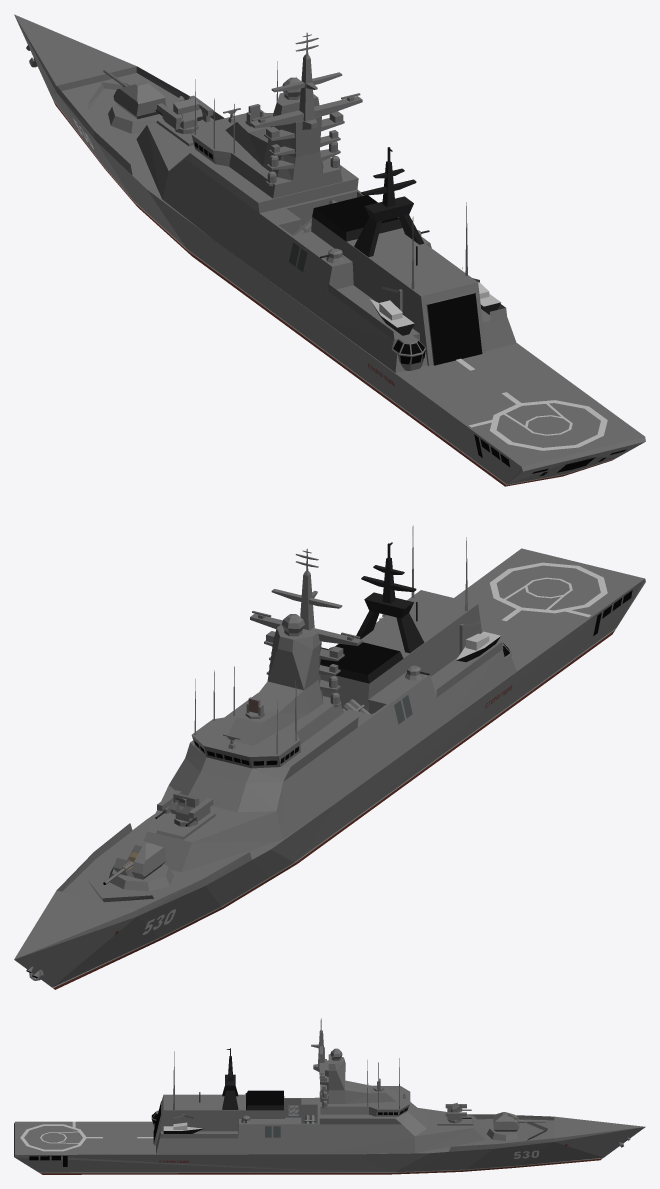
The picture shows the model from 3 angles, top to bottom: view 1: azimuth 30°, elevation 25°; view 2: azimuth 150°, elevation 25°; view 3: azimuth 270°, elevation 25°; orthographic projection. The views are drawn at different scales.
Visible parts, largest first — view 1: ShapeIndexedFaceSet.016_ShapeIndexedFaceSet.017, ShapeIndexedFaceSet_ShapeIndexedFaceSet.001, ShapeIndexedFaceSet.018_ShapeIndexedFaceSet.019, ShapeIndexedFaceSet.049_ShapeIndexedFaceSet, ShapeIndexedFaceSet.027_ShapeIndexedFaceSet.028, ShapeIndexedFaceSet.026_ShapeIndexedFaceSet.027, ShapeIndexedFaceSet.001_ShapeIndexedFaceSet.002, ShapeIndexedFaceSet.019_ShapeIndexedFaceSet.020, ShapeIndexedFaceSet.032_ShapeIndexedFaceSet.033, ShapeIndexedFaceSet.003_ShapeIndexedFaceSet.004, ShapeIndexedFaceSet.029_ShapeIndexedFaceSet.030, ShapeIndexedFaceSet.002_ShapeIndexedFaceSet.003 (+1 smaller); view 2: ShapeIndexedFaceSet.016_ShapeIndexedFaceSet.017, ShapeIndexedFaceSet_ShapeIndexedFaceSet.001, ShapeIndexedFaceSet.018_ShapeIndexedFaceSet.019, ShapeIndexedFaceSet.027_ShapeIndexedFaceSet.028, ShapeIndexedFaceSet.001_ShapeIndexedFaceSet.002, ShapeIndexedFaceSet.026_ShapeIndexedFaceSet.027, ShapeIndexedFaceSet.019_ShapeIndexedFaceSet.020, ShapeIndexedFaceSet.032_ShapeIndexedFaceSet.033, ShapeIndexedFaceSet.003_ShapeIndexedFaceSet.004, ShapeIndexedFaceSet.002_ShapeIndexedFaceSet.003; view 3: ShapeIndexedFaceSet_ShapeIndexedFaceSet.001, ShapeIndexedFaceSet.016_ShapeIndexedFaceSet.017, ShapeIndexedFaceSet.001_ShapeIndexedFaceSet.002, ShapeIndexedFaceSet.018_ShapeIndexedFaceSet.019, ShapeIndexedFaceSet.002_ShapeIndexedFaceSet.003, ShapeIndexedFaceSet.027_ShapeIndexedFaceSet.028, ShapeIndexedFaceSet.026_ShapeIndexedFaceSet.027, ShapeIndexedFaceSet.019_ShapeIndexedFaceSet.020, ShapeIndexedFaceSet.032_ShapeIndexedFaceSet.033, ShapeIndexedFaceSet.003_ShapeIndexedFaceSet.004, ShapeIndexedFaceSet.023_ShapeIndexedFaceSet.024, ShapeIndexedFaceSet.029_ShapeIndexedFaceSet.030.
Boxes of the visible parts, x1,y1,x2,y2 form: ShapeIndexedFaceSet.016_ShapeIndexedFaceSet.017: (87,32,516,372); ShapeIndexedFaceSet_ShapeIndexedFaceSet.001: (14,14,645,484); ShapeIndexedFaceSet.018_ShapeIndexedFaceSet.019: (312,147,500,335); ShapeIndexedFaceSet.049_ShapeIndexedFaceSet: (427,293,482,365); ShapeIndexedFaceSet.027_ShapeIndexedFaceSet.028: (73,118,607,450); ShapeIndexedFaceSet.026_ShapeIndexedFaceSet.027: (26,45,467,289); ShapeIndexedFaceSet.001_ShapeIndexedFaceSet.002: (53,101,614,486); ShapeIndexedFaceSet.019_ShapeIndexedFaceSet.020: (314,195,399,231); ShapeIndexedFaceSet.032_ShapeIndexedFaceSet.033: (113,81,165,119); ShapeIndexedFaceSet.003_ShapeIndexedFaceSet.004: (190,149,358,202); ShapeIndexedFaceSet.029_ShapeIndexedFaceSet.030: (393,340,626,476); ShapeIndexedFaceSet.002_ShapeIndexedFaceSet.003: (52,98,615,485); ShapeIndexedFaceSet.016_ShapeIndexedFaceSet.017: (88,548,516,901); ShapeIndexedFaceSet_ShapeIndexedFaceSet.001: (14,548,645,987); ShapeIndexedFaceSet.018_ShapeIndexedFaceSet.019: (320,542,424,683); ShapeIndexedFaceSet.027_ShapeIndexedFaceSet.028: (142,562,607,934); ShapeIndexedFaceSet.001_ShapeIndexedFaceSet.002: (53,630,614,989); ShapeIndexedFaceSet.026_ShapeIndexedFaceSet.027: (26,525,467,980); ShapeIndexedFaceSet.019_ShapeIndexedFaceSet.020: (320,642,399,674); ShapeIndexedFaceSet.032_ShapeIndexedFaceSet.033: (113,840,166,879); ShapeIndexedFaceSet.003_ShapeIndexedFaceSet.004: (190,692,358,767); ShapeIndexedFaceSet.002_ShapeIndexedFaceSet.003: (52,628,616,988); ShapeIndexedFaceSet_ShapeIndexedFaceSet.001: (14,1114,645,1172); ShapeIndexedFaceSet.016_ShapeIndexedFaceSet.017: (151,1018,547,1154); ShapeIndexedFaceSet.001_ShapeIndexedFaceSet.002: (40,1158,601,1174); ShapeIndexedFaceSet.018_ShapeIndexedFaceSet.019: (222,1048,283,1110); ShapeIndexedFaceSet.002_ShapeIndexedFaceSet.003: (39,1157,603,1173); ShapeIndexedFaceSet.027_ShapeIndexedFaceSet.028: (20,1121,539,1158); ShapeIndexedFaceSet.026_ShapeIndexedFaceSet.027: (173,1048,630,1147); ShapeIndexedFaceSet.019_ShapeIndexedFaceSet.020: (248,1090,283,1105); ShapeIndexedFaceSet.032_ShapeIndexedFaceSet.033: (493,1112,519,1131); ShapeIndexedFaceSet.003_ShapeIndexedFaceSet.004: (319,1092,400,1118); ShapeIndexedFaceSet.023_ShapeIndexedFaceSet.024: (445,1104,466,1120); ShapeIndexedFaceSet.029_ShapeIndexedFaceSet.030: (29,1112,157,1166).
Size of the model in its own units: 130 by 257 by 1037.
